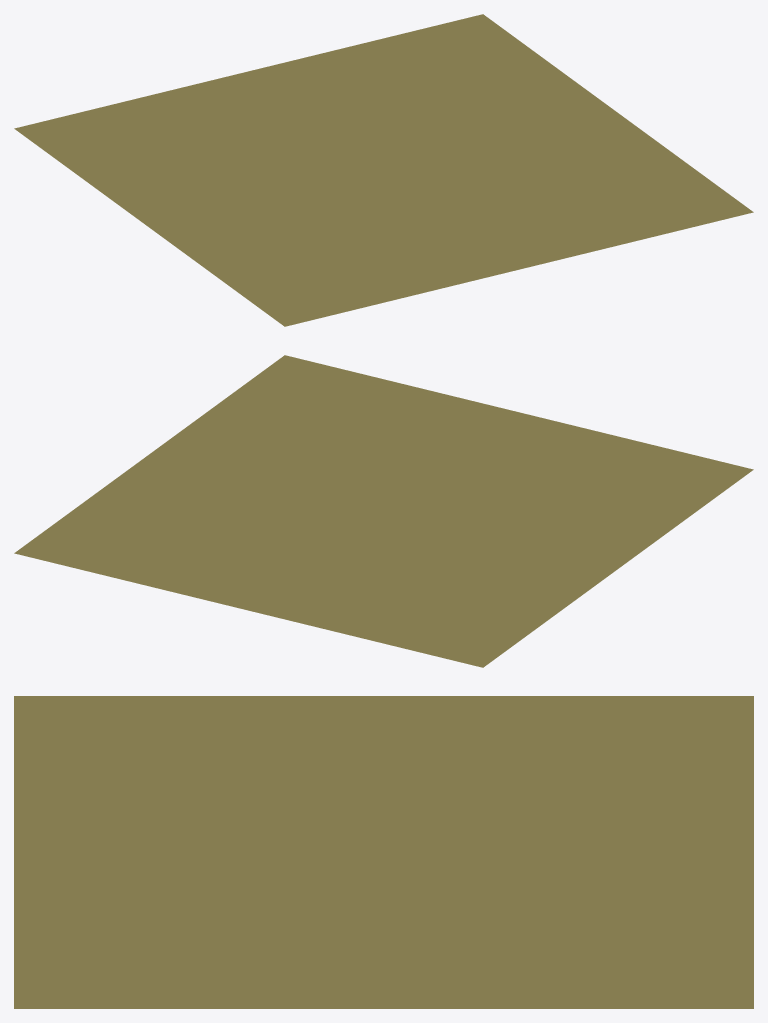
Rendered from swamp_water.fbx.
The picture shows the model from 3 angles, top to bottom: view 1: azimuth 30°, elevation 25°; view 2: azimuth 150°, elevation 25°; view 3: azimuth 270°, elevation 25°; orthographic projection. The views are drawn at different scales.
Parts seen in each view (by area): view 1: Grid; view 2: Grid; view 3: Grid.
Part boxes in pixels (box(x1,y1,x2,y2)): Grid: box(14, 14, 753, 326); Grid: box(14, 355, 753, 667); Grid: box(14, 696, 753, 1008).
Size of the model in its own units: 10 by 0 by 10.
